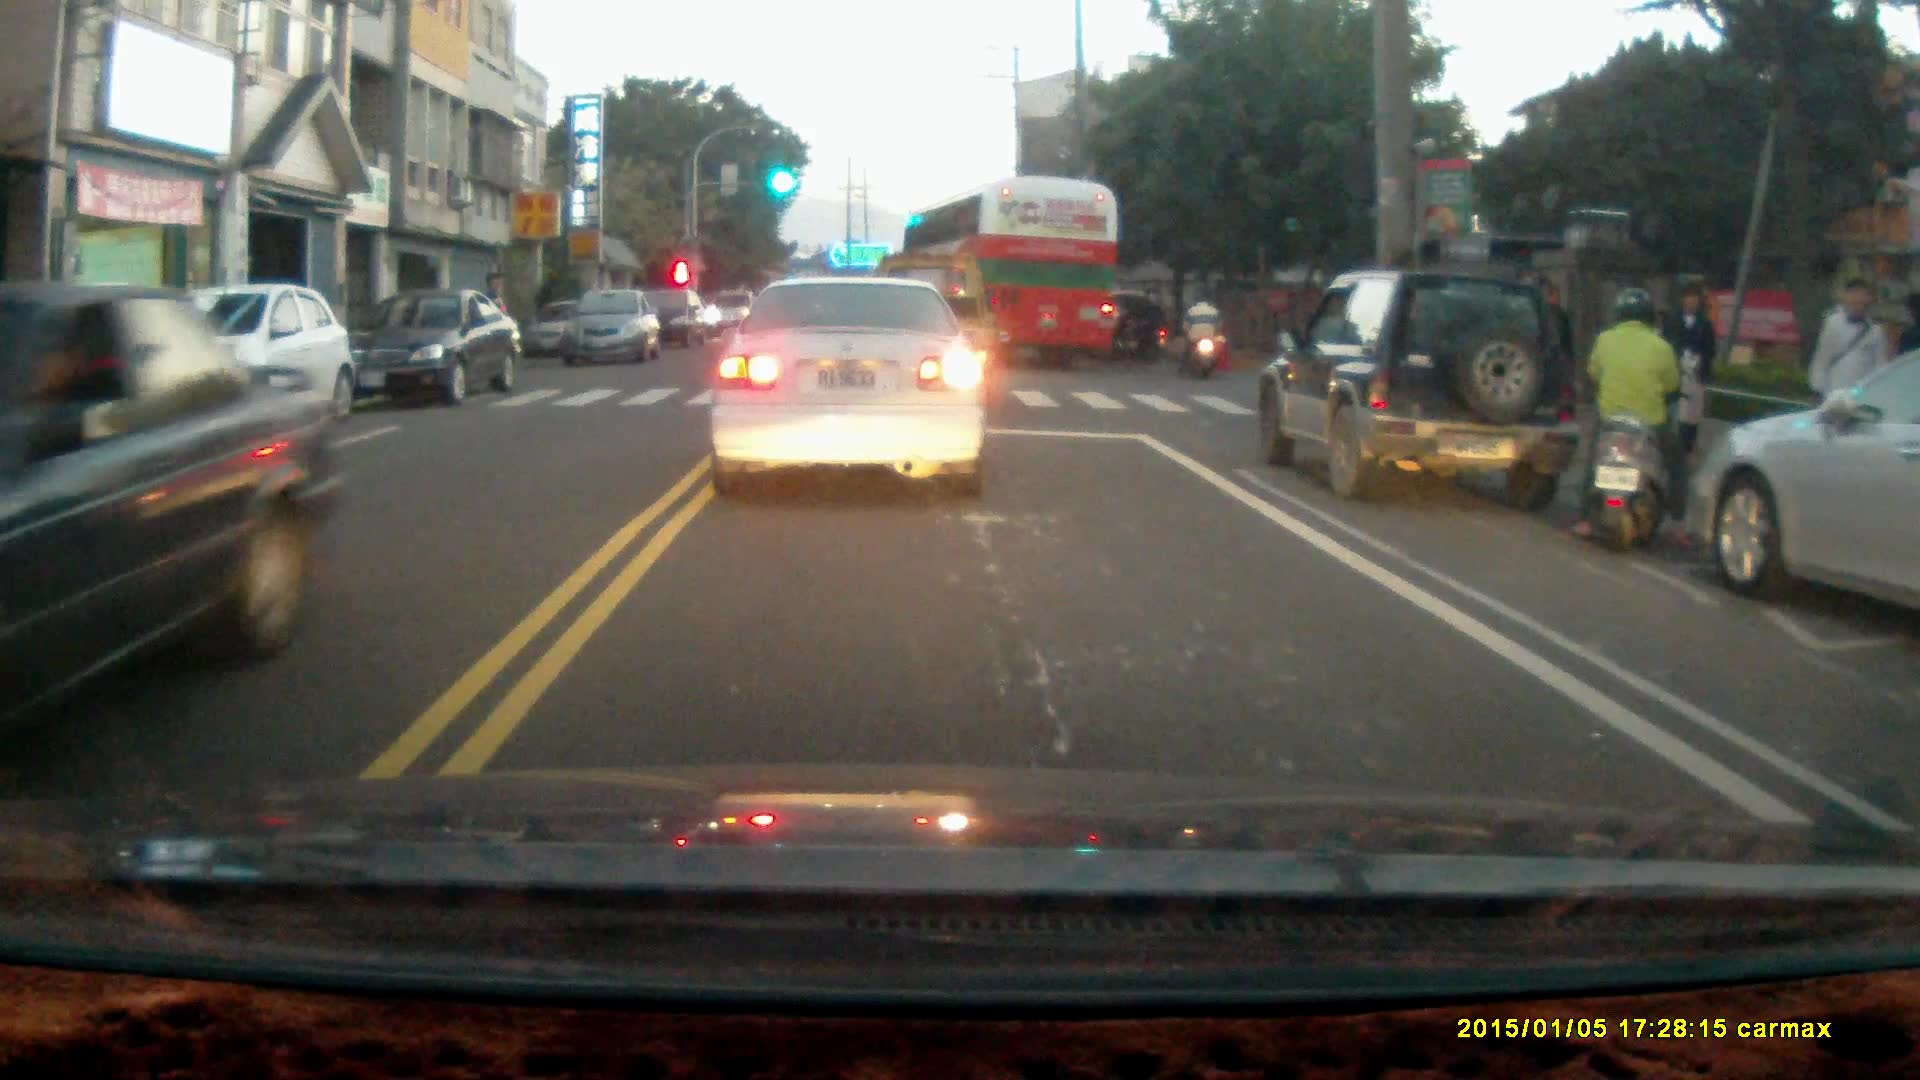pedestrian: (1812, 271, 1892, 456), (1663, 279, 1721, 467)
rider: (1569, 286, 1703, 549), (1105, 291, 1172, 366), (1179, 288, 1223, 378)
vehicle: (3, 275, 349, 785), (1256, 271, 1589, 510), (704, 272, 992, 502), (1688, 346, 1920, 620), (896, 174, 1123, 376), (343, 287, 525, 406), (562, 289, 658, 370), (630, 286, 715, 354)
